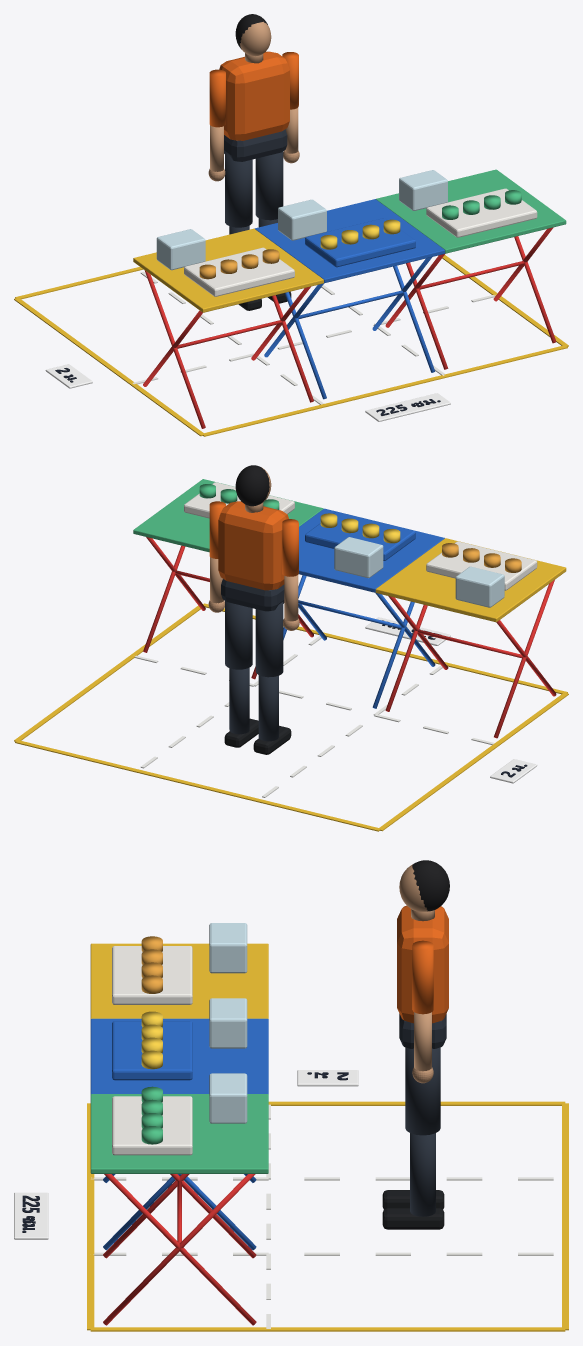
File: lot-food-3.glb
3 views of the same model, one above another, from view 1: azimuth 30°, elevation 25°; view 2: azimuth 150°, elevation 25°; view 3: azimuth 270°, elevation 25° (orthographic). The views are drawn at different scales.
Parts seen in each view (by area): view 1: Cube.038, Cube, Cube.006, Cube.003, Cube.007, Cube.001, Cube.004, Cylinder.028, Cylinder.032, Cube.002, Cube.005, Cube.008 (+15 smaller); view 2: Cube.038, Cube, Cube.003, Cube.006, Cylinder.028, Cube.001, Cube.004, Cylinder.032, Cube.002, Cube.005, Cube.012, Cylinder.031 (+19 smaller); view 3: Cube.006, Cube.003, Cube, Cube.038, Cube.004, Cube.007, Cube.001, Cylinder.032, Cube.011, Cylinder.031, Cube.002, Cube.005 (+17 smaller).
Boxes of the visible parts, x1,y1,x2,y2 form: Cube.038: [219, 51, 289, 140]; Cube: [133, 228, 323, 312]; Cube.006: [376, 169, 566, 253]; Cube.003: [254, 199, 444, 283]; Cube.007: [426, 188, 537, 237]; Cube.001: [184, 247, 294, 296]; Cube.004: [305, 218, 415, 267]; Cylinder.028: [225, 152, 252, 227]; Cylinder.032: [255, 151, 283, 220]; Cube.002: [156, 229, 205, 270]; Cube.005: [278, 199, 326, 240]; Cube.008: [399, 170, 447, 210]; Cube.038: [218, 501, 288, 590]; Cube: [375, 538, 566, 622]; Cube.003: [299, 508, 444, 592]; Cube.006: [133, 479, 323, 552]; Cylinder.028: [255, 602, 283, 677]; Cube.001: [426, 541, 537, 590]; Cube.004: [305, 512, 415, 560]; Cylinder.032: [225, 601, 252, 669]; Cube.002: [455, 566, 504, 607]; Cube.005: [334, 537, 383, 578]; Cube.012: [15, 740, 380, 831]; Cylinder.031: [229, 667, 249, 734]; Cube.006: [90, 1094, 268, 1173]; Cube.003: [90, 1018, 268, 1094]; Cube: [90, 943, 268, 1018]; Cube.038: [397, 905, 448, 1023]; Cube.004: [112, 1021, 192, 1080]; Cube.007: [112, 1096, 192, 1155]; Cube.001: [112, 946, 192, 1004]; Cylinder.032: [405, 1047, 440, 1135]; Cube.011: [90, 1327, 565, 1331]; Cylinder.031: [410, 1133, 435, 1216]; Cube.002: [209, 923, 247, 973]; Cube.005: [209, 998, 247, 1048].
Bounding box in the file's own units: 2.59 × 1.65 × 2.34.
